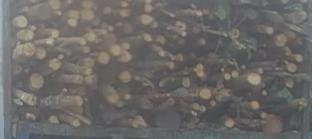large: (156, 111, 179, 128), (263, 117, 282, 134), (35, 4, 50, 20)
medium: (29, 73, 43, 87), (22, 43, 35, 56), (133, 117, 146, 129), (247, 74, 259, 85), (199, 89, 211, 100), (48, 59, 60, 70), (119, 51, 131, 62), (16, 15, 27, 27), (21, 29, 33, 40), (81, 10, 93, 21), (140, 14, 151, 25), (36, 47, 46, 59), (173, 21, 185, 31), (98, 53, 109, 63), (119, 72, 130, 82), (85, 75, 96, 85), (275, 35, 285, 46), (181, 77, 190, 89), (107, 94, 117, 104), (110, 46, 120, 56), (83, 57, 93, 67), (102, 6, 112, 16), (120, 9, 131, 18), (121, 24, 131, 33), (68, 10, 79, 18), (49, 0, 60, 8), (287, 64, 295, 73), (285, 79, 293, 88), (196, 64, 204, 73), (230, 29, 238, 38), (75, 96, 82, 106), (144, 34, 152, 42), (67, 18, 75, 26), (257, 25, 265, 33), (27, 97, 34, 106), (156, 36, 163, 45), (295, 54, 302, 62), (144, 5, 152, 12), (121, 42, 128, 49)
small: (226, 120, 233, 128), (224, 73, 231, 81), (52, 29, 59, 37), (252, 102, 258, 110), (49, 117, 56, 123), (88, 33, 94, 40), (58, 54, 64, 60), (78, 40, 84, 46), (85, 68, 91, 74), (266, 27, 272, 33), (194, 103, 199, 110), (201, 105, 206, 111), (210, 101, 215, 107), (73, 121, 79, 126), (48, 38, 53, 44), (78, 77, 83, 83), (102, 30, 107, 36), (109, 26, 114, 32), (168, 62, 173, 68), (233, 71, 237, 78), (85, 47, 90, 52), (261, 113, 266, 118), (30, 25, 35, 30), (114, 21, 119, 26), (121, 3, 126, 8), (258, 68, 262, 73), (260, 90, 265, 94), (55, 11, 60, 15), (180, 31, 184, 36), (124, 94, 128, 99), (199, 39, 203, 44), (32, 116, 36, 121), (196, 11, 200, 15), (26, 114, 30, 117), (30, 115, 34, 118)
